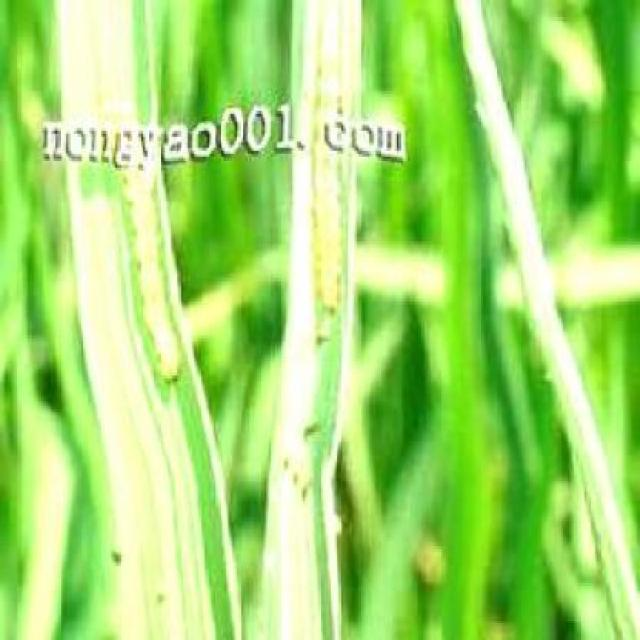leaf-folder: (119, 192, 210, 398), (297, 181, 371, 356)
